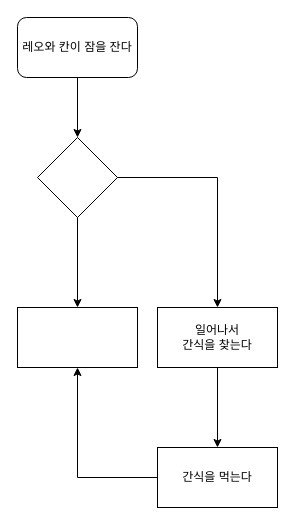
Image size: 295x525. Some labels were removed from this diagram. The shapes that lost their labels are listed below. From the top down, each one's centre as x and y in pixels, then its label:
At pixel 77 177: "소리".
At pixel 77 337: "잠을 잔다".
